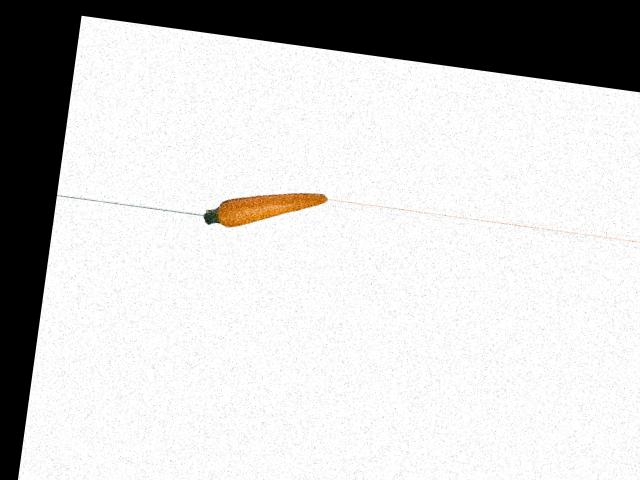carrot: (201, 178, 327, 240)
